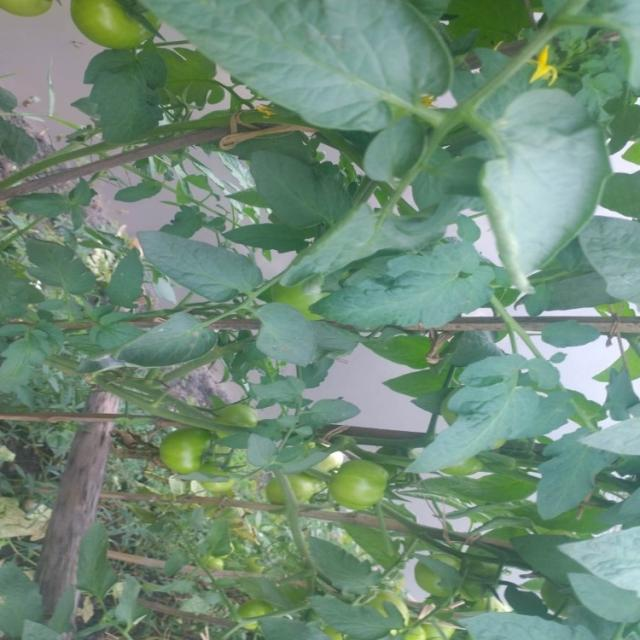tomato: (59, 1, 166, 65), (320, 449, 395, 531), (248, 464, 327, 520), (146, 410, 194, 474), (192, 442, 251, 486)
